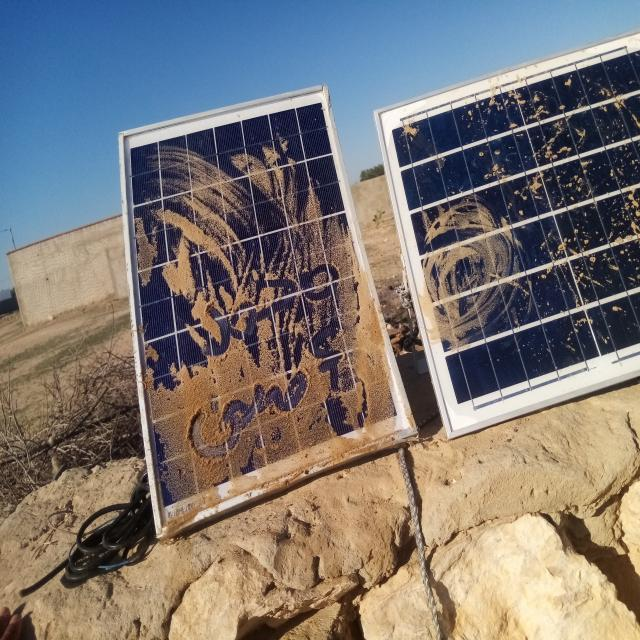faulty: (125, 90, 418, 531), (375, 33, 640, 437)
